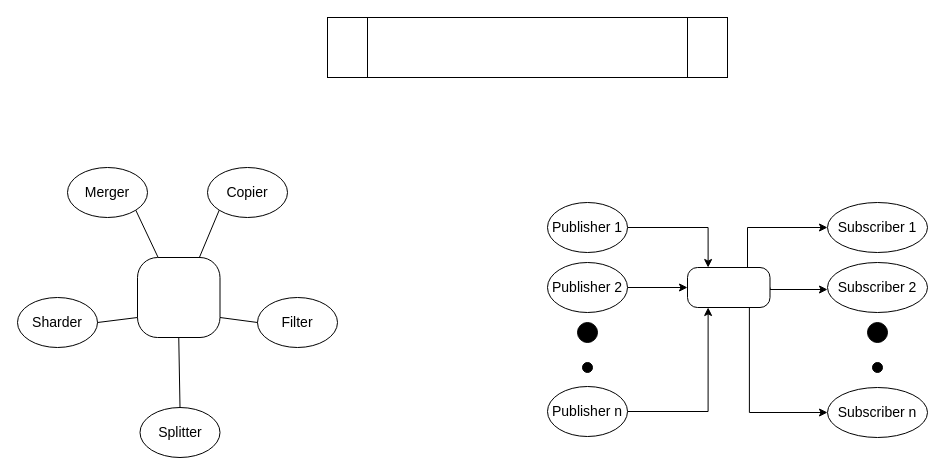
Image size: 945x475. Some labels were removed from this diagram. The centre of each missing label's shape, as x and y in pixels:
Event Driven bath Processing: point (527, 47)
Topic: point (728, 287)
Workflow System: point (178, 297)
